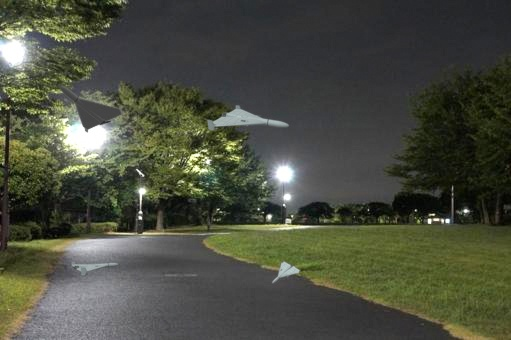shahed: (55, 81, 124, 132), (206, 101, 290, 132), (66, 259, 117, 277), (271, 261, 301, 284)
